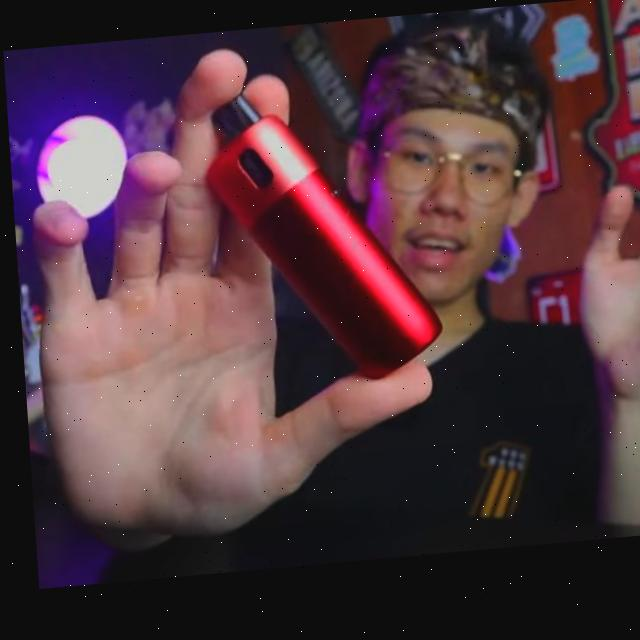vape: (197, 84, 442, 399)
